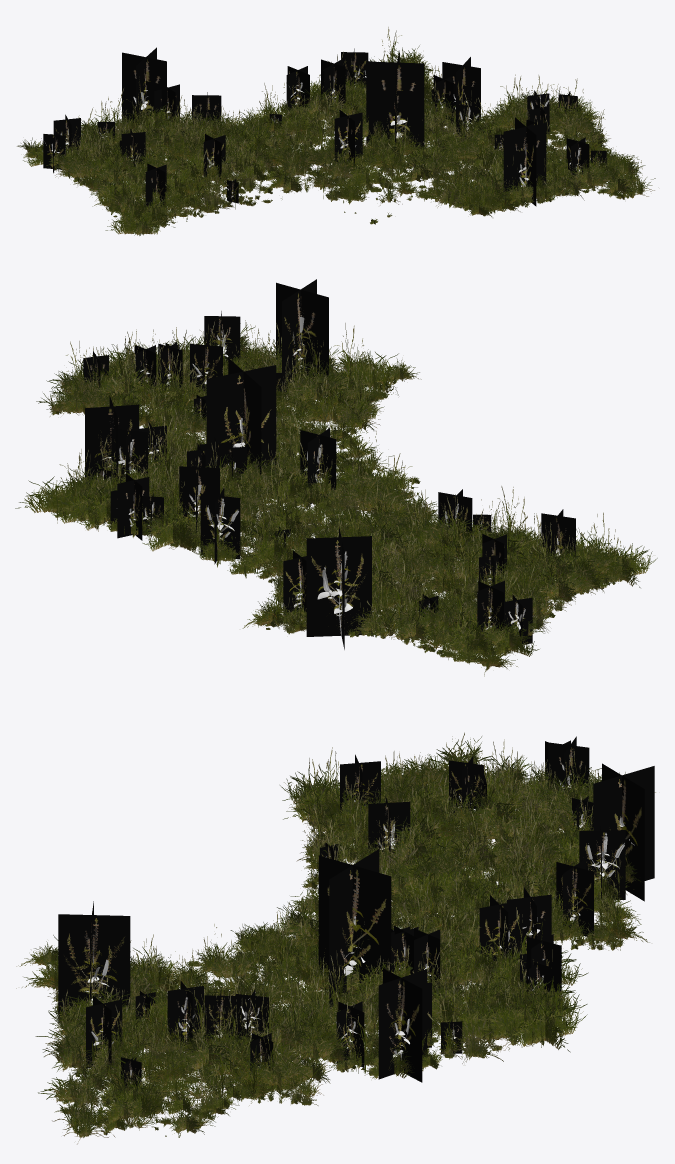
The model's file is grass_test.fbx.
3 renders of one model, top to bottom at view 1: azimuth 30°, elevation 25°; view 2: azimuth 150°, elevation 25°; view 3: azimuth 270°, elevation 25°, orthographic. The views are drawn at different scales.
Parts seen in each view (by area): view 1: terrarium_pit_grass_LOD1, terrarium_pit_shrub_LOD1, terrarium_pit_shrub_LOD1.001; view 2: terrarium_pit_grass_LOD1, terrarium_pit_shrub_LOD1, terrarium_pit_shrub_LOD1.001; view 3: terrarium_pit_grass_LOD1, terrarium_pit_shrub_LOD1, terrarium_pit_shrub_LOD1.001.
Boxes of the visible parts, x1,y1,x2,y2 form: terrarium_pit_grass_LOD1: (17, 27, 655, 235); terrarium_pit_shrub_LOD1: (43, 47, 606, 206); terrarium_pit_shrub_LOD1.001: (45, 65, 601, 197); terrarium_pit_grass_LOD1: (15, 320, 657, 676); terrarium_pit_shrub_LOD1: (83, 279, 575, 649); terrarium_pit_shrub_LOD1.001: (95, 315, 560, 635); terrarium_pit_grass_LOD1: (16, 732, 655, 1144); terrarium_pit_shrub_LOD1: (58, 736, 654, 1087); terrarium_pit_shrub_LOD1.001: (85, 764, 634, 1082).
Bounding box in the file's own units: 1254 × 264 × 972.
Materials: 3 (2 with a texture image).
